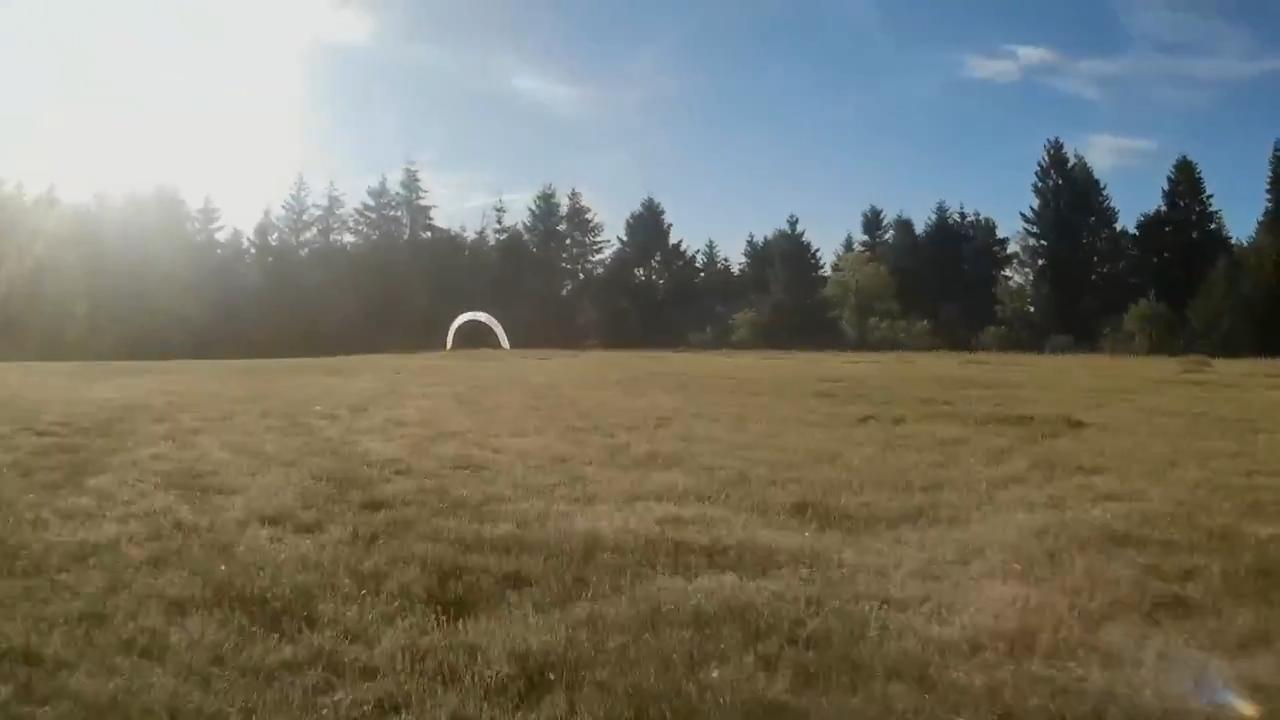gate: (445, 310, 509, 354)
